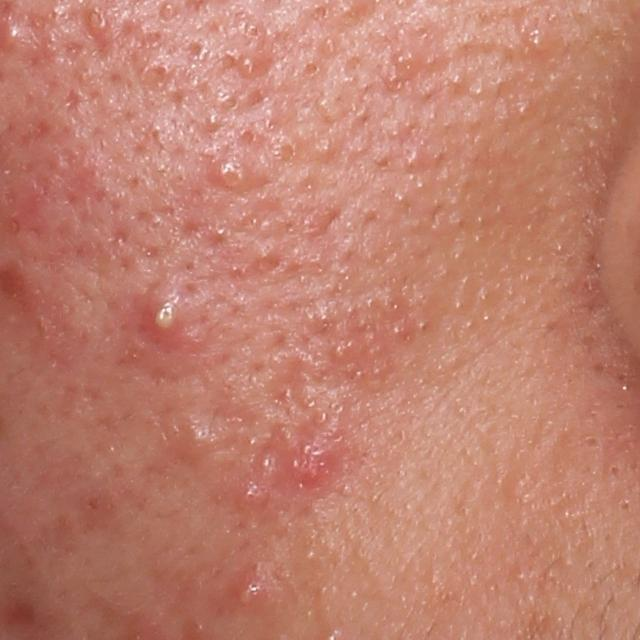comedo: (401, 145, 430, 172), (299, 58, 324, 84), (217, 90, 243, 114), (315, 138, 337, 162), (245, 20, 267, 44), (577, 435, 603, 454), (446, 69, 466, 91), (204, 113, 224, 132), (160, 1, 177, 19)
papule: (176, 421, 220, 461), (291, 454, 333, 494), (235, 479, 273, 512), (80, 5, 116, 39)
pustule: (226, 572, 279, 614), (211, 156, 252, 193)
